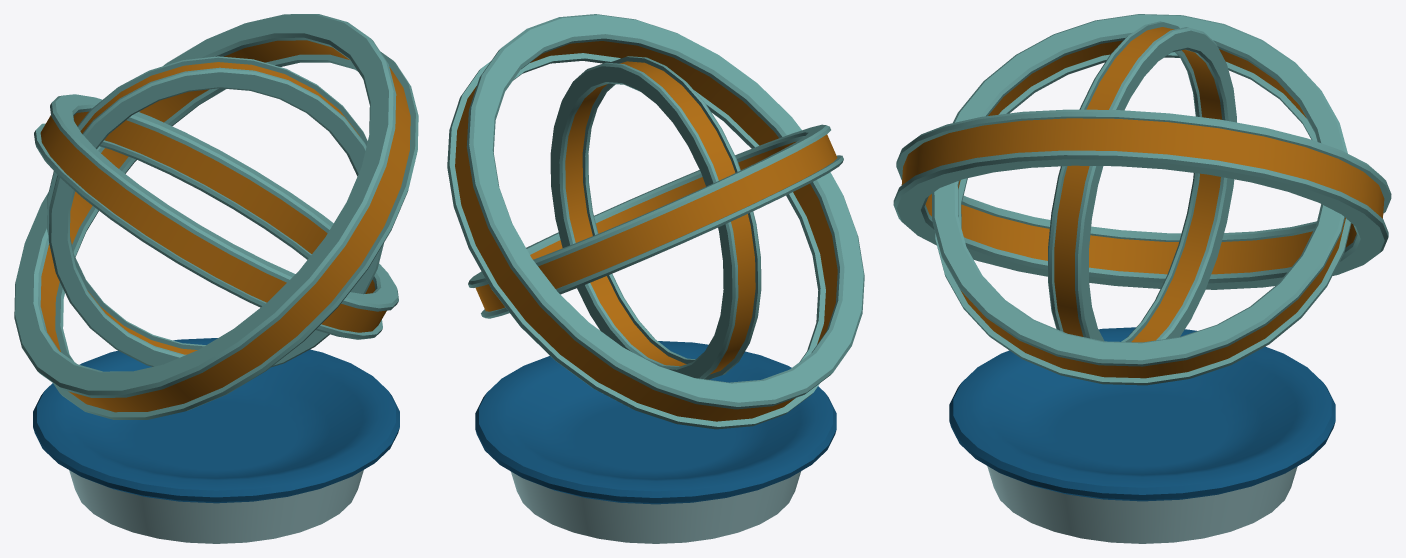
File: Whirly Dirly Coaster.fbx
3 renders of one model, left to right at view 1: azimuth 30°, elevation 25°; view 2: azimuth 150°, elevation 25°; view 3: azimuth 270°, elevation 25°, orthographic. The views are drawn at different scales.
Parts seen in each view (by area): view 1: HoverPlate, Ring_1, Ring_2, Ring_3; view 2: Ring_1, HoverPlate, Ring_3, Ring_2; view 3: HoverPlate, Ring_1, Ring_2, Ring_3.
Boxes of the visible parts, x1,y1,x2,y2 form: HoverPlate: (33,338,399,543); Ring_1: (14,14,418,419); Ring_2: (34,94,398,339); Ring_3: (47,56,383,367); Ring_1: (447,14,864,429); HoverPlate: (475,341,836,543); Ring_3: (550,56,761,379); Ring_2: (468,124,843,318); HoverPlate: (949,327,1335,543); Ring_1: (893,109,1391,289); Ring_2: (932,14,1351,385); Ring_3: (1048,21,1236,342).
Size of the model in its own units: 11.87 by 14.19 by 14.45.
